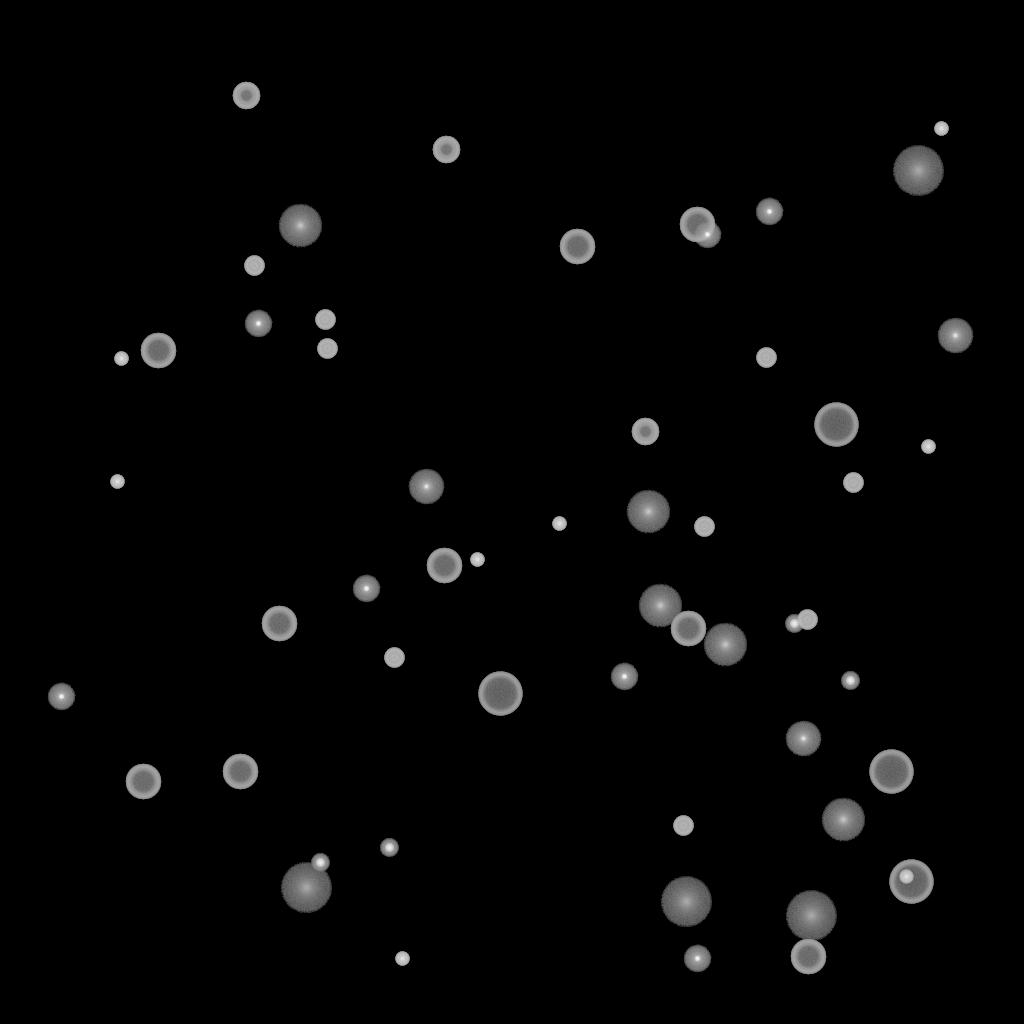depth:-10: (683, 945, 711, 973), (693, 221, 721, 249), (610, 663, 638, 691), (352, 575, 380, 603), (244, 310, 272, 338), (755, 198, 783, 226), (47, 683, 75, 711)
depth:-20: (380, 839, 398, 857), (841, 672, 859, 690), (785, 615, 803, 633), (311, 854, 329, 872)
depth:-30: (921, 440, 935, 454), (899, 870, 913, 884), (114, 352, 128, 366), (552, 517, 566, 531), (934, 122, 948, 136), (395, 952, 409, 966), (110, 475, 124, 489), (470, 553, 484, 567)
depth:-40: (384, 648, 404, 668), (244, 256, 264, 276), (694, 517, 714, 537), (315, 310, 335, 330), (756, 348, 776, 368), (797, 610, 817, 630), (843, 473, 863, 493), (673, 816, 693, 836), (317, 339, 337, 359)
depth:-50: (631, 418, 659, 446), (432, 136, 460, 164), (232, 82, 260, 110)
depth:-60: (140, 333, 176, 369), (125, 764, 161, 800), (261, 606, 297, 642), (426, 548, 462, 584), (679, 207, 715, 243), (559, 229, 595, 265), (670, 611, 706, 647), (222, 754, 258, 790), (790, 939, 826, 975)
depth:-70: (869, 750, 913, 794), (814, 403, 858, 447), (889, 860, 933, 904), (478, 672, 522, 716)
depth:0: (785, 721, 821, 757), (408, 469, 444, 505), (937, 318, 973, 354)
depth:10: (638, 584, 682, 628), (821, 798, 865, 842), (278, 204, 322, 248), (703, 623, 747, 667), (626, 490, 670, 534)
depth:20: (892, 146, 944, 196), (280, 863, 332, 913), (660, 877, 712, 927), (785, 891, 837, 941)
